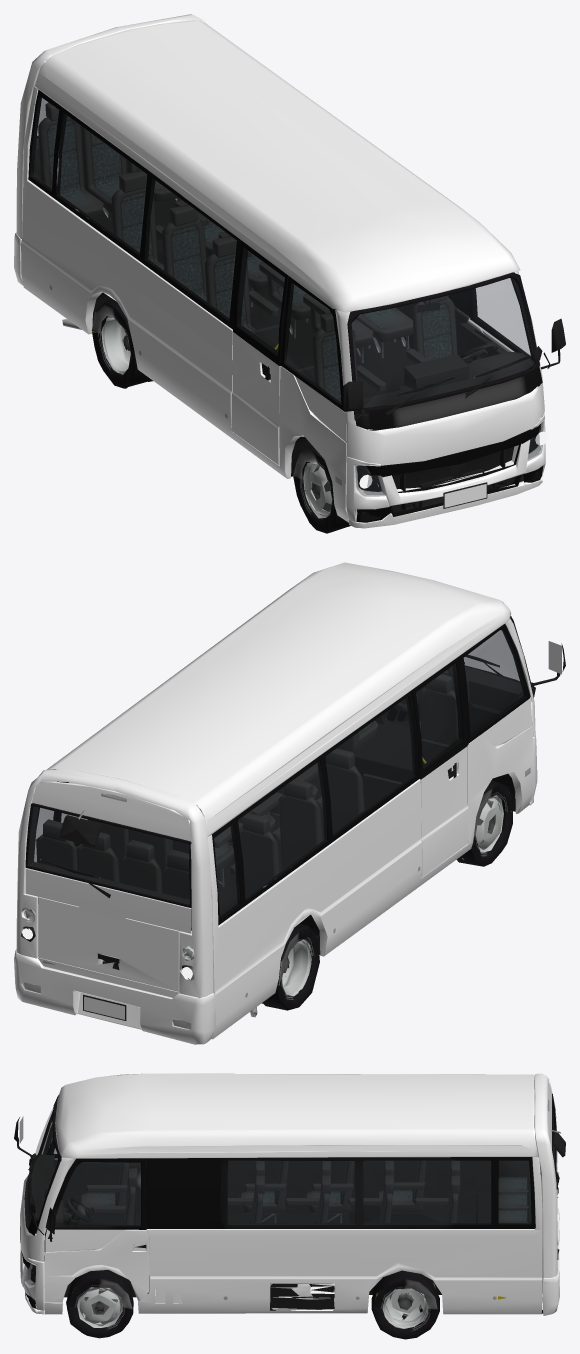
Rendered from bus.glb.
3 views of the same model, one above another, from view 1: azimuth 30°, elevation 25°; view 2: azimuth 150°, elevation 25°; view 3: azimuth 270°, elevation 25° (orthographic). The views are drawn at different scales.
Parts seen in each view (by area): view 1: body, wheel_fr, decal:busSide; view 2: body, wheel_fr, decal:busSide, decal:busNum; view 3: body, wheel_fl, decal:busSide, wheel_rl.
Boxes of the visible parts, bbox=[...] form: body: bbox=[14, 14, 565, 528]; wheel_fr: bbox=[293, 446, 350, 533]; decal:busSide: bbox=[139, 292, 237, 378]; body: bbox=[14, 562, 565, 1044]; wheel_fr: bbox=[456, 780, 512, 866]; decal:busSide: bbox=[330, 803, 427, 888]; decal:busNum: bbox=[79, 897, 125, 920]; body: bbox=[14, 1073, 565, 1339]; wheel_fl: bbox=[66, 1270, 133, 1338]; decal:busSide: bbox=[210, 1252, 361, 1263]; wheel_rl: bbox=[372, 1270, 437, 1324].
Size of the model in its own units: 2.54 by 2.75 by 6.57.
Materials: 8 (2 with a texture image).
